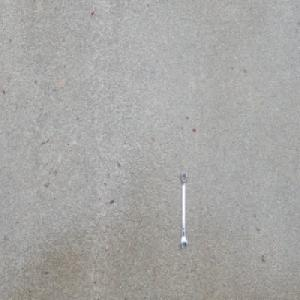Wrench: (179, 169, 188, 251)
